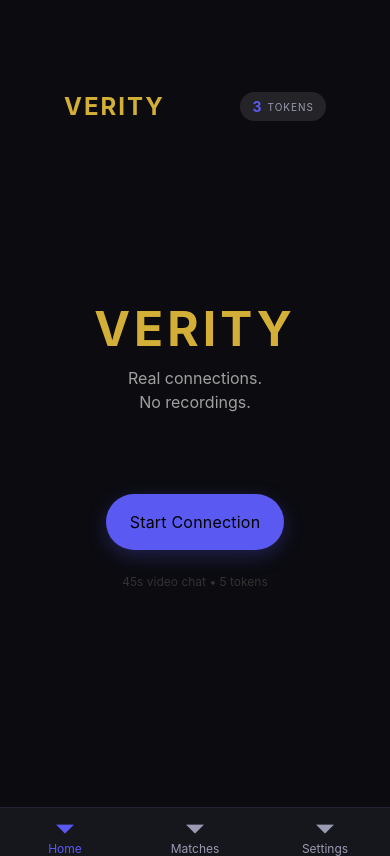
Test: SettingsScreen › opens the delete account confirmation screen
Click the text "Settings": [325, 848] box [302, 841, 348, 855]
(page scrolled)
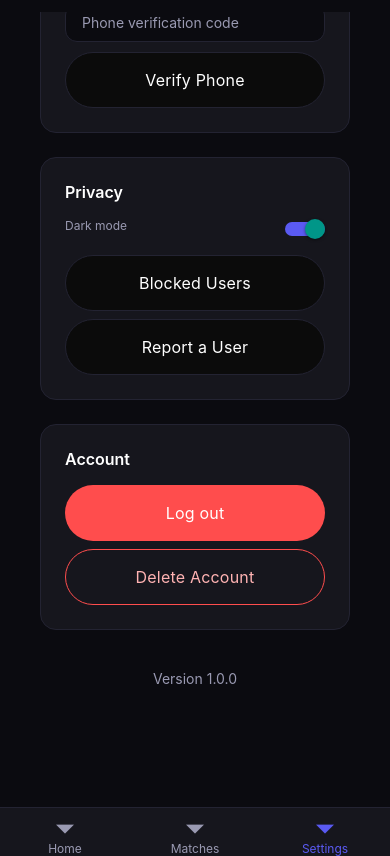
Click the button "Delete Account": [195, 577] box [65, 549, 325, 605]
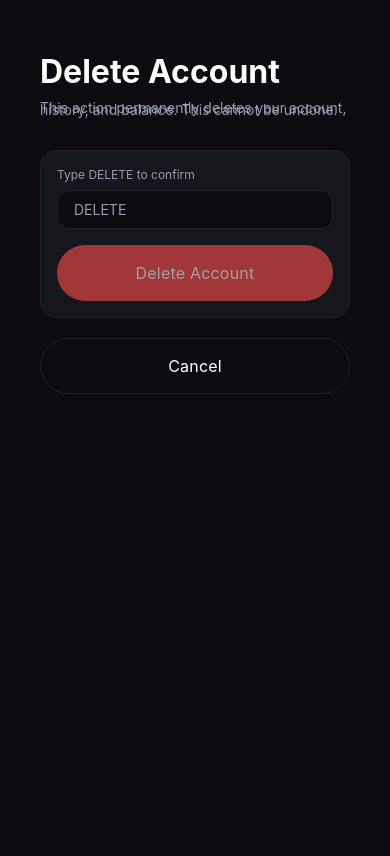
Expected: the text "Type DELETE to confirm" is shown, [57, 167, 195, 182]
